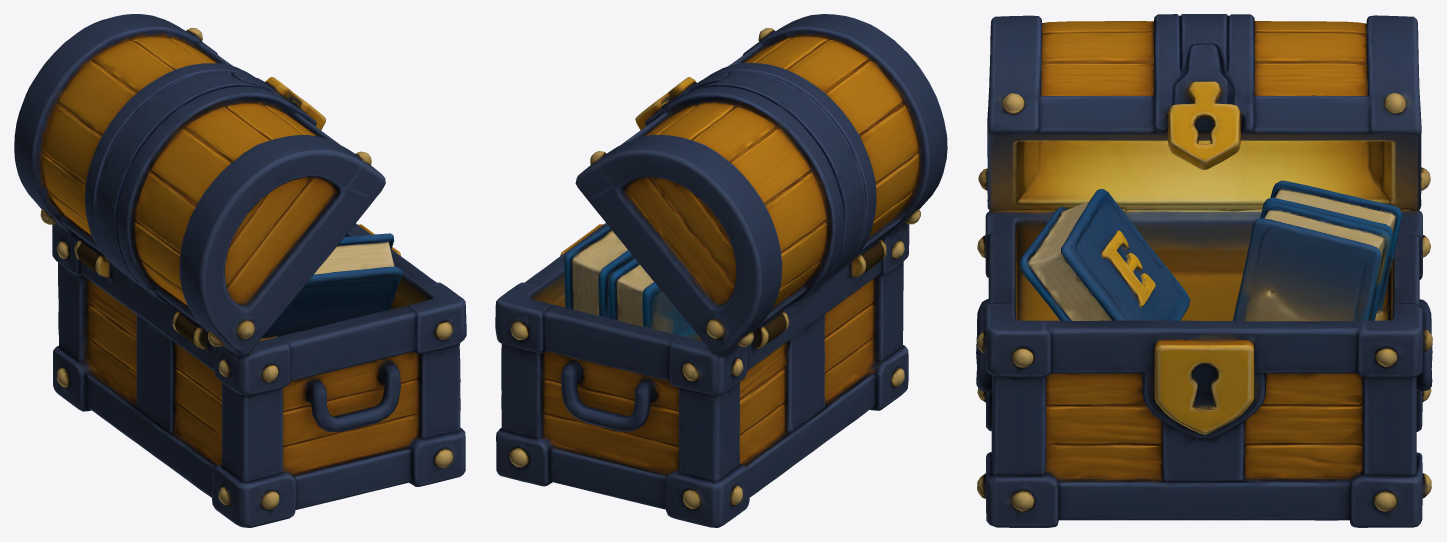
The model's file is bau.glb.
3 views of the same model, side by side, from view 1: azimuth 30°, elevation 25°; view 2: azimuth 150°, elevation 25°; view 3: azimuth 270°, elevation 25° (orthographic). The views are drawn at different scales.
Visible parts, largest first — view 1: tripo_node_7e2752e0-f013-41a4-889b-7e25441ada61; view 2: tripo_node_7e2752e0-f013-41a4-889b-7e25441ada61; view 3: tripo_node_7e2752e0-f013-41a4-889b-7e25441ada61.
Boxes of the visible parts, <box> form: tripo_node_7e2752e0-f013-41a4-889b-7e25441ada61: <box>14,14,466,527</box>; tripo_node_7e2752e0-f013-41a4-889b-7e25441ada61: <box>495,14,947,527</box>; tripo_node_7e2752e0-f013-41a4-889b-7e25441ada61: <box>976,14,1432,527</box>.
Size of the model in its own units: 0.79 by 1 by 0.9997.
Materials: 1 (1 with a texture image).
